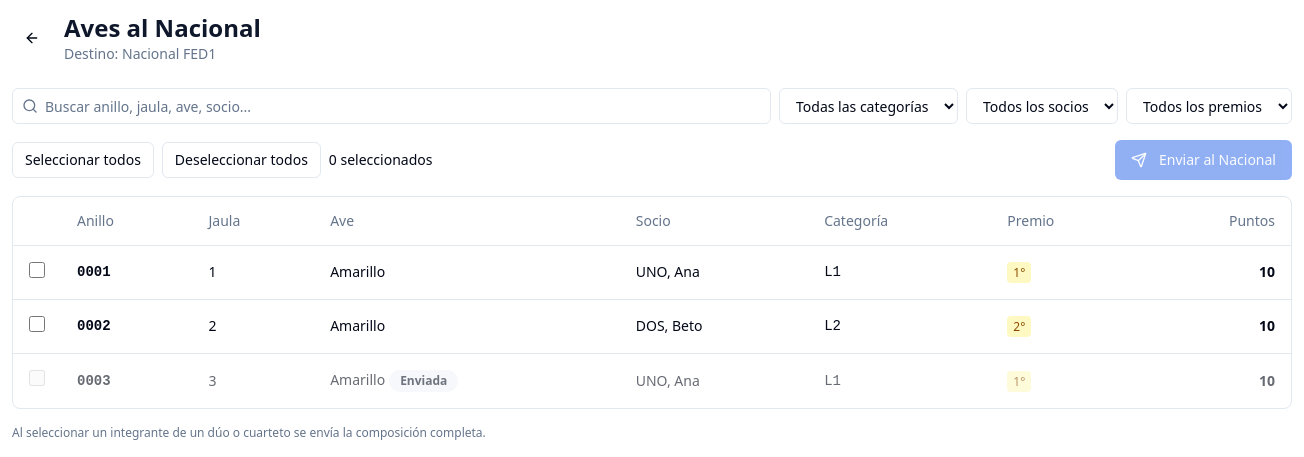
grilla con columnas, selección masiva e indicador
Expected: the text "Destino: Nacional FED1" is shown, [64,44,216,63]
Expected: the column heading "Anillo" is shown, [61,197,192,245]
Step 1. Click the button "Seleccionar todos" → coordinates (83, 160), box [12,142,154,178]
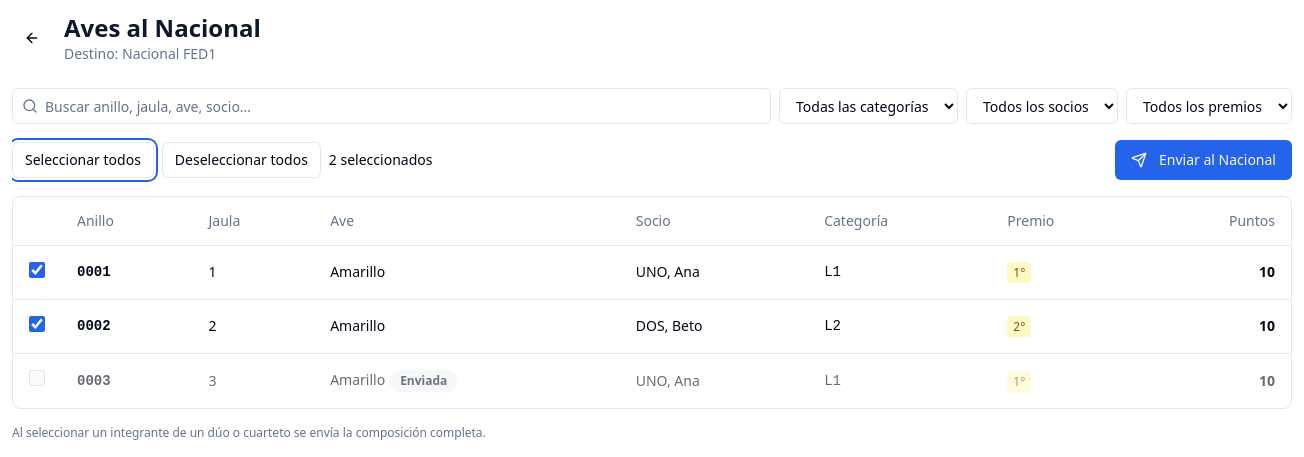
Now the text with test id "contador" reads "2 seleccionados", box [329,150,432,170]
Step 2. Click the button "Deseleccionar todos" → coordinates (241, 160), box [162,142,321,178]
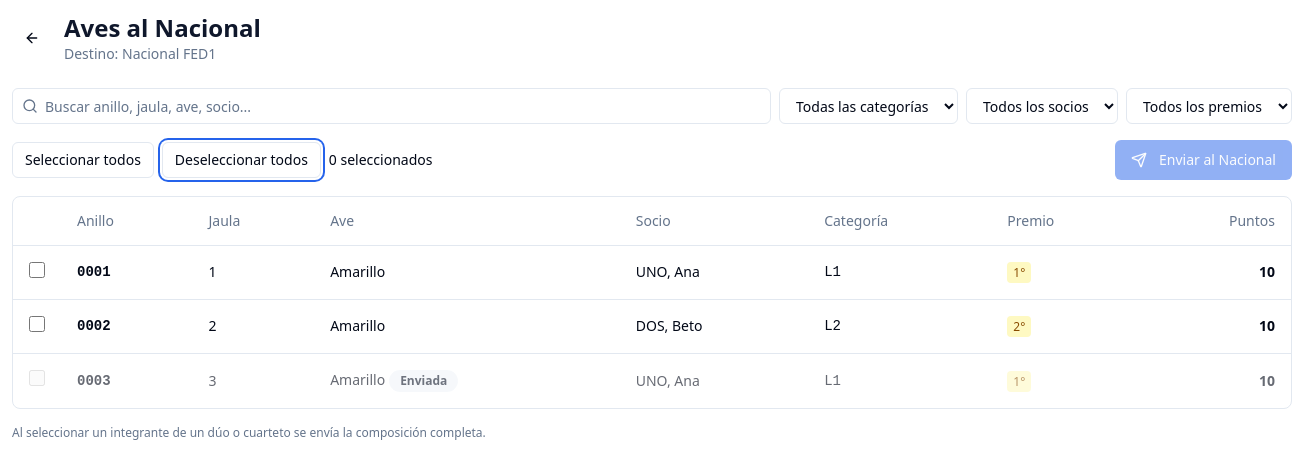
Now the text with test id "contador" reads "0 seleccionados", box [329,150,432,170]
Step 3. Click the checkbox named "Seleccionar 0001" → coordinates (37, 270), box [29,262,45,278]
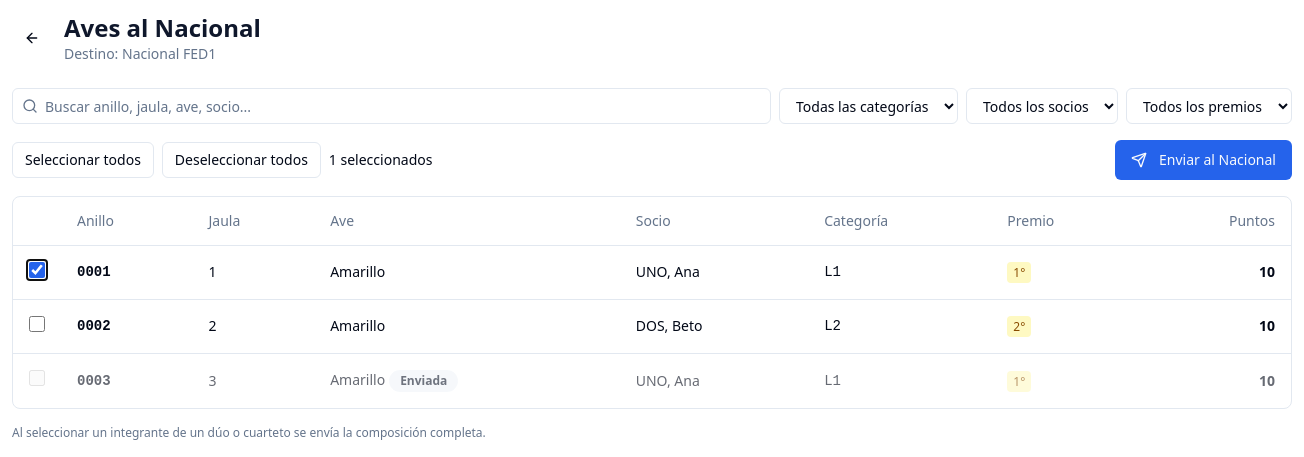
Now the text with test id "contador" reads "1 seleccionados", box [329,150,432,170]
